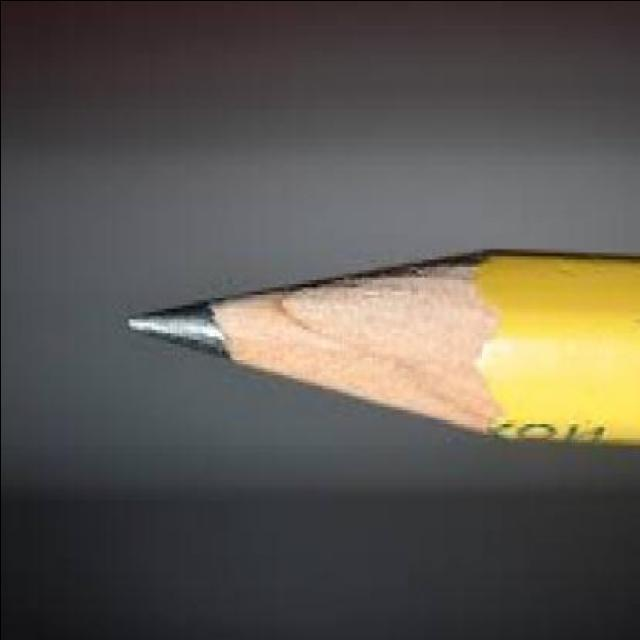Pencil: (114, 240, 640, 454)
